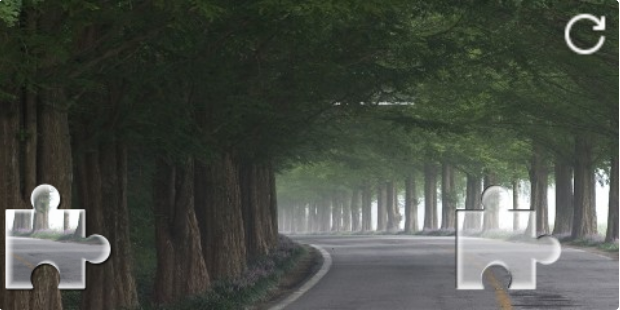target: (456, 186, 562, 291)
